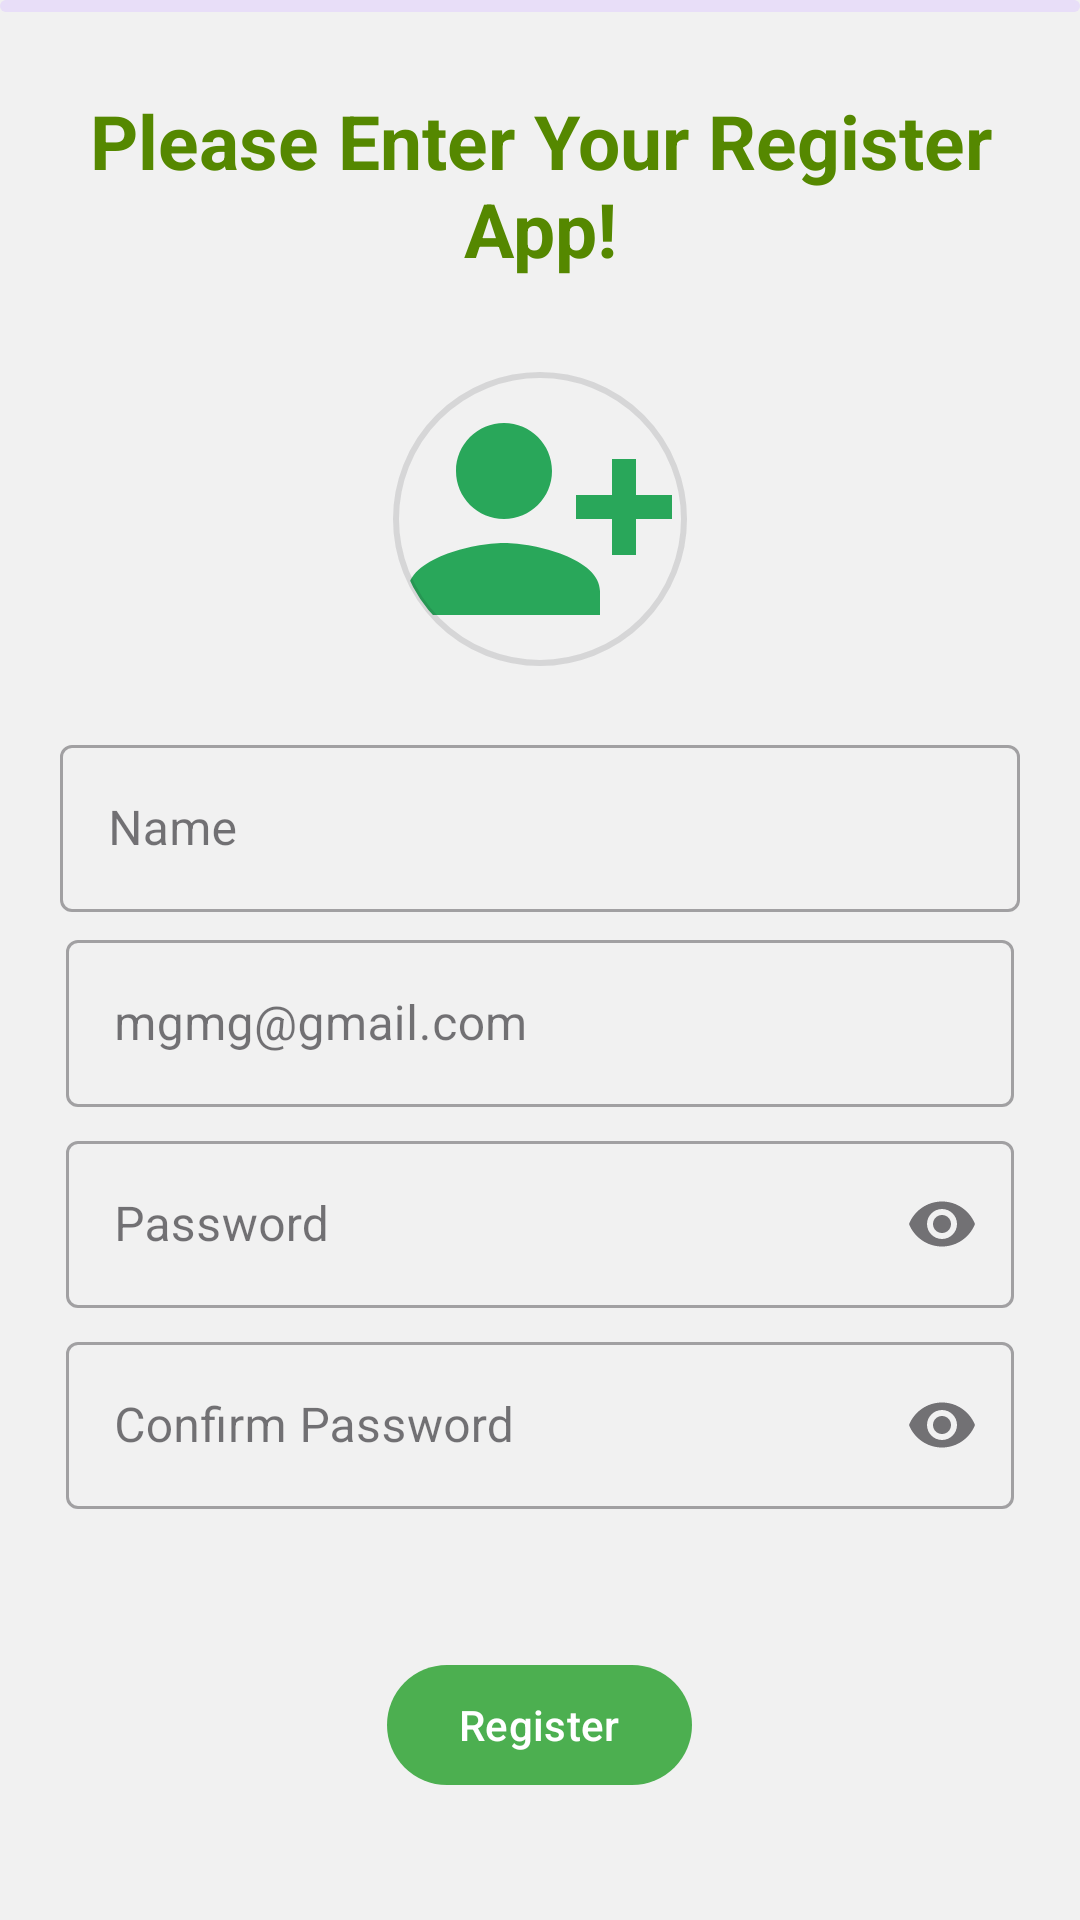

Where to tap for icons on this 1080w x 1920h app screen, as (x=x, y=y):
person add: (x=540, y=519)
